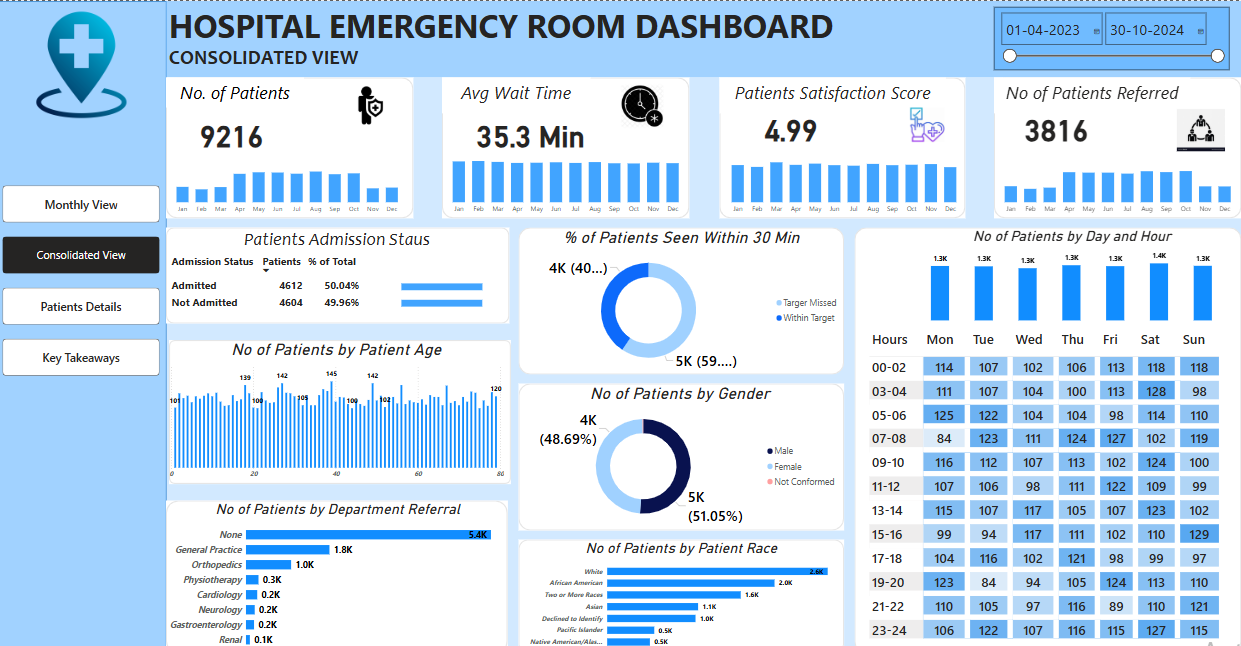

The dashboard page shown, as its layout file describes it:
{"tool":"powerbi","page":{"name":"Consolidated View","canvas":[2300,1200],"ordinal":1},"visuals":[{"type":"shape","box":[10.2,0,310,1399],"z":0},{"type":"shape","box":[318.9,0,1980.9,140],"z":1000},{"type":"textbox","box":[318.9,0,1298,99.8],"z":2000},{"type":"textbox","box":[320.3,74.5,378.2,63.5],"z":3000},{"type":"slicer","fields":{"Values":["Date Table.Date"]},"box":[1844.2,11,433.4,116],"z":4000},{"type":"shape","box":[320.3,140.8,455.5,259.5],"z":5000},{"type":"card","fields":{"Values":["Hospital ER_Data.No of Patients"]},"box":[356.1,207.1,168.4,71.8],"z":6000},{"type":"textbox","box":[320.3,140.8,254,55.2],"z":7000},{"type":"columnChart","fields":{"Category":["Date Table.Month Name"],"Y":["Hospital ER_Data.No of Patients"]},"box":[320.3,273.3,447.2,127],"z":8000},{"type":"shape","box":[829.2,140.8,455.5,259.5],"z":9000},{"type":"card","fields":{"Values":["Hospital ER_Data.Avg Wait Time"]},"box":[880.7,207.1,220.9,71.8],"z":10000},{"type":"textbox","box":[828.2,140.8,273.3,66.3],"z":11000},{"type":"columnChart","fields":{"Category":["Date Table.Month Name"],"Y":["Avg(Hospital ER_Data.Patient Waittime)"]},"box":[828.2,273.3,455.5,127],"z":12000},{"type":"shape","box":[1338.1,140.8,452.8,259.5],"z":13000},{"type":"textbox","box":[1339,140.8,416.9,66.3],"z":14000},{"type":"columnChart","fields":{"Category":["Date Table.Month Name"],"Y":["Hospital ER_Data.Satisfaction Score"]},"box":[1341.7,273.3,452.8,127],"z":15000},{"type":"shape","box":[1844.2,140.8,455.5,259.5],"z":16000},{"type":"card","fields":{"Values":["Hospital ER_Data.No of Patients Referred"]},"box":[1874.6,196,168.4,71.8],"z":17000},{"type":"textbox","box":[1844.2,140.8,361.7,66.3],"z":18000},{"type":"columnChart","fields":{"Category":["Date Table.Month Name"],"Y":["Hospital ER_Data.No of Patients Referred"]},"box":[1844.2,273.3,455.5,127],"z":19000},{"type":"shape","box":[320.3,416.9,632.2,176.7],"z":20000},{"type":"card","fields":{"Values":["Avg(Hospital ER_Data.Patient Satisfaction Score)"]},"box":[1374.9,196,190.5,71.8],"z":21000},{"type":"pivotTable","title":"Patients Admission Staus","fields":{"Rows":["Hospital ER_Data.Admission Status"],"Values":["Hospital ER_Data.No of Patients1","Hospital ER_Data.No of Patients"]},"box":[320.3,416.9,629.5,176.7],"z":22000},{"type":"barChart","fields":{"Category":["Hospital ER_Data.Admission Status"],"Y":["Hospital ER_Data.No of Patients"]},"box":[748.2,491.4,204.3,93.9],"z":23000},{"type":"shape","box":[325.8,623.5,629.5,265],"z":24000},{"type":"clusteredColumnChart","fields":{"Category":["Hospital ER_Data.Patient Age"],"Y":["Hospital ER_Data.No of Patients"]},"box":[320.3,623.9,626.7,265],"z":25000},{"type":"shape","box":[320.3,918.4,629.5,281.6],"z":26000},{"type":"clusteredBarChart","fields":{"Category":["Hospital ER_Data.Department Referral"],"Y":["Hospital ER_Data.No of Patients"]},"box":[320.3,919.3,632.2,281.6],"z":27000},{"type":"shape","box":[969,416.9,599.1,270.6],"z":28000},{"type":"donutChart","title":"% of Patients Seen Within 30 Min","fields":{"Category":["Hospital ER_Data.Waittime Status"],"Y":["Hospital ER_Data.No of Patients"]},"box":[969,416.9,599.1,270.6],"z":29000},{"type":"shape","box":[969,704,599.1,270.6],"z":30000},{"type":"donutChart","title":"No of Patients by Gender","fields":{"Y":["Hospital ER_Data.No of Patients"],"Category":["Hospital ER_Data.Patient Gender"]},"box":[966.3,704,599.1,270.6],"z":31000},{"type":"shape","box":[969,990.2,599.1,209.8],"z":32000},{"type":"clusteredBarChart","fields":{"Y":["Hospital ER_Data.No of Patients"],"Category":["Hospital ER_Data.Patient Race"]},"box":[969,991.1,599.1,209.8],"z":33000},{"type":"shape","box":[1587.5,416.9,712.3,784.1],"z":34000},{"type":"pivotTable","fields":{"Rows":["Hospital ER_Data.Waittime Interval"],"Columns":["Date Table.Day Name"],"Values":["Hospital ER_Data.No of Patients"]},"box":[1609.5,599.1,668.1,585.3],"z":35000},{"type":"columnChart","title":"No of Patients by Day and Hour","fields":{"Category":["Date Table.Day Name"],"Y":["Hospital ER_Data.No of Patients"]},"box":[1722.7,416.9,530.1,176.7],"z":36000},{"type":"image","box":[646,151.8,102.1,80.1],"z":37000},{"type":"image","box":[1151.3,146.3,91.1,93.9],"z":38000},{"type":"image","box":[1684.1,187.7,74.5,80.1],"z":39000},{"type":"image","box":[2172.8,193.3,104.9,88.3],"z":40000},{"type":"image","box":[46.9,13.8,234.7,207.1],"z":41000},{"type":"pageNavigator","box":[19.3,339.6,289.9,350.6],"z":42000}]}

Visuals, with their boxes in screenshot pixels (x1, y1, x2, y2), scaled from the page's 2300x1200 canvas onto the 1241x646 screenshot:
shape: pyautogui.locateOnScreen(6, 0, 173, 645)
shape: pyautogui.locateOnScreen(172, 0, 1240, 75)
textbox: pyautogui.locateOnScreen(172, 0, 872, 54)
textbox: pyautogui.locateOnScreen(173, 40, 377, 74)
slicer - Date Table.Date: pyautogui.locateOnScreen(995, 6, 1229, 68)
shape: pyautogui.locateOnScreen(173, 76, 419, 215)
card - Hospital ER_Data.No of Patients: pyautogui.locateOnScreen(192, 111, 283, 150)
textbox: pyautogui.locateOnScreen(173, 76, 310, 106)
columnChart - Date Table.Month Name x Hospital ER_Data.No of Patients: pyautogui.locateOnScreen(173, 147, 414, 215)
shape: pyautogui.locateOnScreen(447, 76, 693, 215)
card - Hospital ER_Data.Avg Wait Time: pyautogui.locateOnScreen(475, 111, 594, 150)
textbox: pyautogui.locateOnScreen(447, 76, 594, 111)
columnChart - Date Table.Month Name x Avg(Hospital ER_Data.Patient Waittime): pyautogui.locateOnScreen(447, 147, 693, 215)
shape: pyautogui.locateOnScreen(722, 76, 966, 215)
textbox: pyautogui.locateOnScreen(722, 76, 947, 111)
columnChart - Date Table.Month Name x Hospital ER_Data.Satisfaction Score: pyautogui.locateOnScreen(724, 147, 968, 215)
shape: pyautogui.locateOnScreen(995, 76, 1240, 215)
card - Hospital ER_Data.No of Patients Referred: pyautogui.locateOnScreen(1011, 106, 1102, 144)
textbox: pyautogui.locateOnScreen(995, 76, 1190, 111)
columnChart - Date Table.Month Name x Hospital ER_Data.No of Patients Referred: pyautogui.locateOnScreen(995, 147, 1240, 215)
shape: pyautogui.locateOnScreen(173, 224, 514, 320)
card - Avg(Hospital ER_Data.Patient Satisfaction Score): pyautogui.locateOnScreen(742, 106, 845, 144)
"Patients Admission Staus" pivotTable: pyautogui.locateOnScreen(173, 224, 512, 320)
barChart - Hospital ER_Data.Admission Status x Hospital ER_Data.No of Patients: pyautogui.locateOnScreen(404, 265, 514, 315)
shape: pyautogui.locateOnScreen(176, 336, 515, 478)
clusteredColumnChart - Hospital ER_Data.Patient Age x Hospital ER_Data.No of Patients: pyautogui.locateOnScreen(173, 336, 511, 479)
shape: pyautogui.locateOnScreen(173, 494, 512, 645)
clusteredBarChart - Hospital ER_Data.Department Referral x Hospital ER_Data.No of Patients: pyautogui.locateOnScreen(173, 495, 514, 645)
shape: pyautogui.locateOnScreen(523, 224, 846, 370)
"% of Patients Seen Within 30 Min" donutChart: pyautogui.locateOnScreen(523, 224, 846, 370)
shape: pyautogui.locateOnScreen(523, 379, 846, 525)
"No of Patients by Gender" donutChart: pyautogui.locateOnScreen(521, 379, 845, 525)
shape: pyautogui.locateOnScreen(523, 533, 846, 645)
clusteredBarChart - Hospital ER_Data.No of Patients x Hospital ER_Data.Patient Race: pyautogui.locateOnScreen(523, 534, 846, 645)
shape: pyautogui.locateOnScreen(857, 224, 1240, 645)
pivotTable - Hospital ER_Data.Waittime Interval x Date Table.Day Name: pyautogui.locateOnScreen(868, 323, 1229, 638)
"No of Patients by Day and Hour" columnChart: pyautogui.locateOnScreen(930, 224, 1216, 320)
image: pyautogui.locateOnScreen(349, 82, 404, 125)
image: pyautogui.locateOnScreen(621, 79, 670, 129)
image: pyautogui.locateOnScreen(909, 101, 949, 144)
image: pyautogui.locateOnScreen(1172, 104, 1229, 152)
image: pyautogui.locateOnScreen(25, 7, 152, 119)
pageNavigator: pyautogui.locateOnScreen(10, 183, 167, 372)
